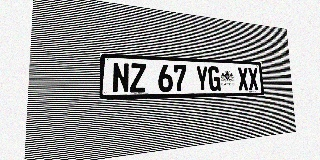6: (158, 64, 173, 92)
7: (173, 65, 187, 92)
G: (208, 66, 221, 91)
N: (112, 62, 129, 93)
X: (237, 67, 249, 91), (248, 68, 259, 90)
Y: (195, 66, 209, 91)
Z: (130, 63, 146, 93)
